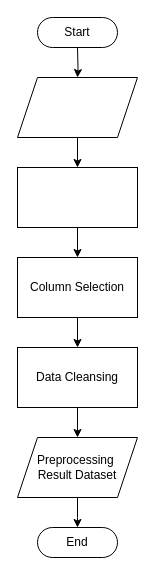
The diagram is 155 pixels wide and 575 high, and some of its shapes have lost their labels. Each missing label, with the centre of its shape:
Data Collection (type = Shot): pixel 77 197
Selection Result Dataset: pixel 77 107
